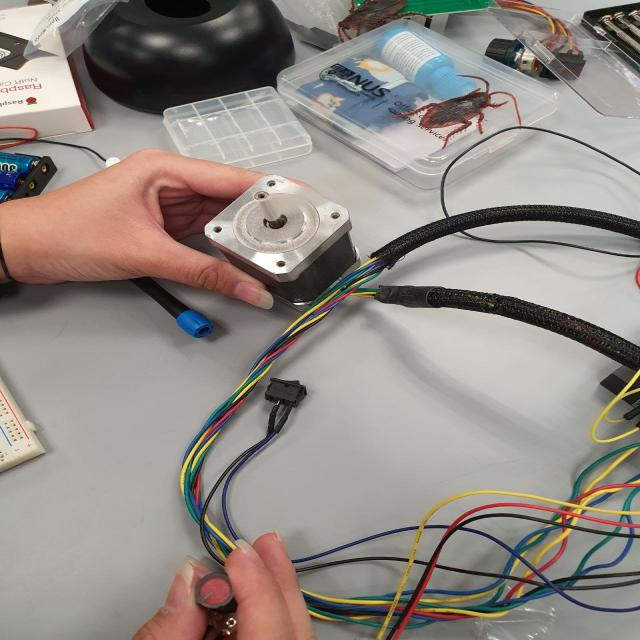Cockroach: (401, 64, 522, 151)
